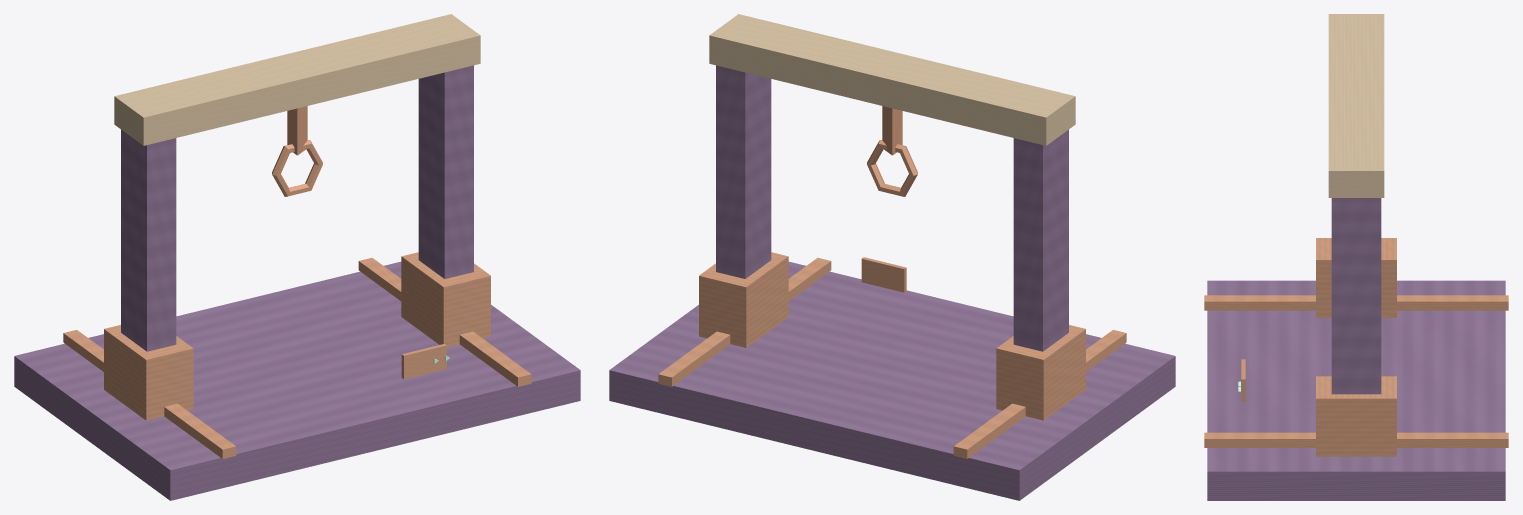
File: atlas100-s087-a02.lod1.glb
3 views of the same model, side by side, from view 1: azimuth 30°, elevation 25°; view 2: azimuth 150°, elevation 25°; view 3: azimuth 270°, elevation 25° (orthographic). The views are drawn at different scales.
Parts seen in each view (by area): view 1: atlas100-s087-a02:part-000, atlas100-s087-a02:part-007, atlas100-s087-a02:part-003, atlas100-s087-a02:part-005, atlas100-s087-a02:part-004, atlas100-s087-a02:part-006, atlas100-s087-a02:part-002, atlas100-s087-a02:part-001, atlas100-s087-a02:part-010, atlas100-s087-a02:part-009, atlas100-s087-a02:part-008; view 2: atlas100-s087-a02:part-000, atlas100-s087-a02:part-007, atlas100-s087-a02:part-003, atlas100-s087-a02:part-005, atlas100-s087-a02:part-004, atlas100-s087-a02:part-006, atlas100-s087-a02:part-002, atlas100-s087-a02:part-001, atlas100-s087-a02:part-010, atlas100-s087-a02:part-009, atlas100-s087-a02:part-008; view 3: atlas100-s087-a02:part-000, atlas100-s087-a02:part-007, atlas100-s087-a02:part-005, atlas100-s087-a02:part-006, atlas100-s087-a02:part-001, atlas100-s087-a02:part-002, atlas100-s087-a02:part-004.
Part boxes in pixels (x1,y1,x2,y2): atlas100-s087-a02:part-000: (14, 261, 580, 500); atlas100-s087-a02:part-007: (114, 14, 480, 145); atlas100-s087-a02:part-003: (121, 129, 176, 351); atlas100-s087-a02:part-005: (418, 65, 473, 278); atlas100-s087-a02:part-004: (104, 325, 193, 420); atlas100-s087-a02:part-006: (401, 252, 490, 346); atlas100-s087-a02:part-002: (358, 257, 531, 386); atlas100-s087-a02:part-001: (63, 330, 236, 458); atlas100-s087-a02:part-010: (401, 344, 446, 379); atlas100-s087-a02:part-009: (272, 140, 322, 196); atlas100-s087-a02:part-008: (287, 106, 307, 155); atlas100-s087-a02:part-000: (609, 261, 1175, 500); atlas100-s087-a02:part-007: (709, 14, 1075, 145); atlas100-s087-a02:part-003: (1013, 129, 1068, 351); atlas100-s087-a02:part-005: (716, 65, 771, 278); atlas100-s087-a02:part-004: (996, 325, 1085, 420); atlas100-s087-a02:part-006: (699, 252, 788, 347); atlas100-s087-a02:part-002: (658, 257, 831, 386); atlas100-s087-a02:part-001: (953, 330, 1126, 458); atlas100-s087-a02:part-010: (861, 257, 906, 292); atlas100-s087-a02:part-009: (867, 140, 917, 196); atlas100-s087-a02:part-008: (882, 106, 902, 155); atlas100-s087-a02:part-000: (1207, 280, 1505, 500); atlas100-s087-a02:part-007: (1328, 14, 1384, 197); atlas100-s087-a02:part-005: (1331, 198, 1381, 394); atlas100-s087-a02:part-006: (1316, 376, 1396, 456); atlas100-s087-a02:part-001: (1204, 295, 1508, 310); atlas100-s087-a02:part-002: (1204, 432, 1508, 447); atlas100-s087-a02:part-004: (1316, 238, 1396, 317).
Bounding box in the file's own units: 3.64 × 2.78 × 2.45.
Materials: 4 (4 with a texture image).
